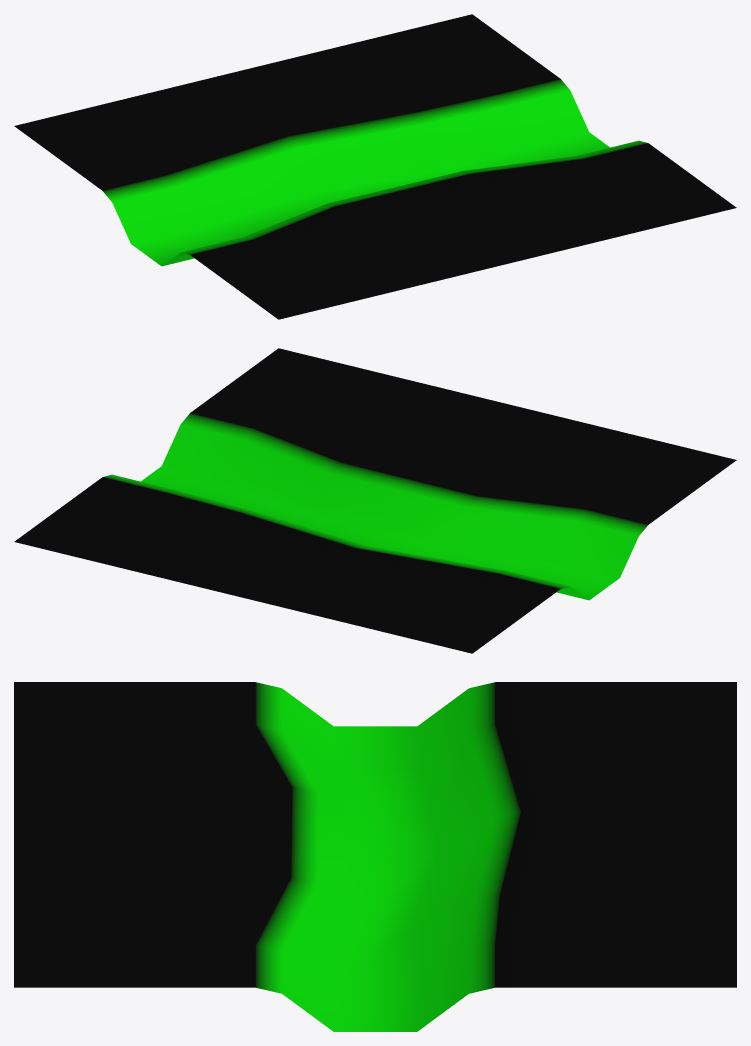
The model's file is SM_Ground_16m_River.FBX.
3 renders of one model, top to bottom at view 1: azimuth 30°, elevation 25°; view 2: azimuth 150°, elevation 25°; view 3: azimuth 270°, elevation 25°, orthographic. The views are drawn at different scales.
Visible parts, largest first — view 1: SM_Ground_16m_River; view 2: SM_Ground_16m_River; view 3: SM_Ground_16m_River.
Part boxes in pixels (x1=…): SM_Ground_16m_River: x1=14, y1=14, x2=736, y2=319; SM_Ground_16m_River: x1=14, y1=348, x2=736, y2=653; SM_Ground_16m_River: x1=14, y1=682, x2=736, y2=1031.
Size of the model in its own units: 1600 by 1600 by 108.
